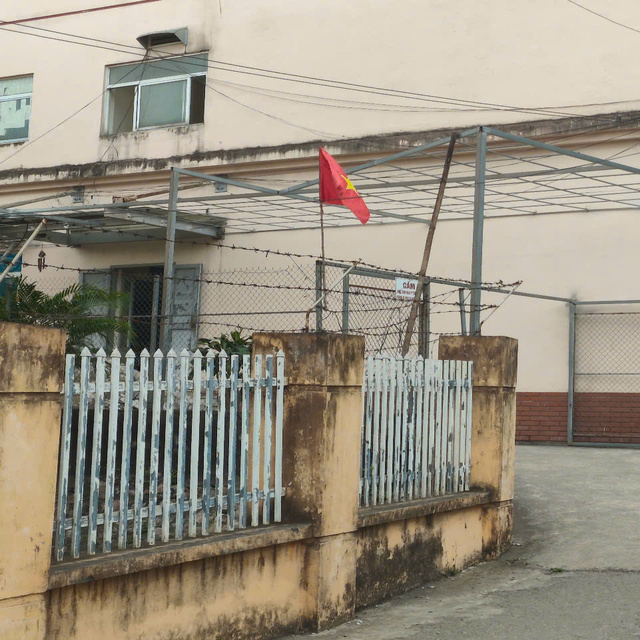laco: (315, 141, 388, 232)
